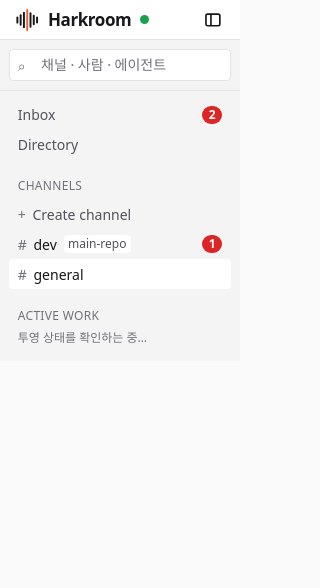
it: Sidebar › 채널 편집 (admin 전용) › 편집 메뉴를 누르면 폼이 열리고 현재 값이 채워진다
This screenshot has width=320, height=588.
Right-click the button "# general" at {"x": 120, "y": 274}, box [9,259,231,289]
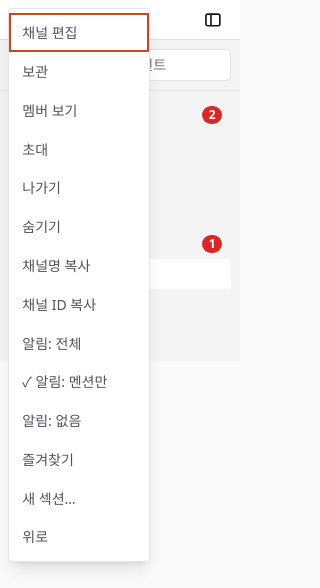
Click the menu item "채널 편집" at {"x": 79, "y": 33}, box [9,13,149,52]
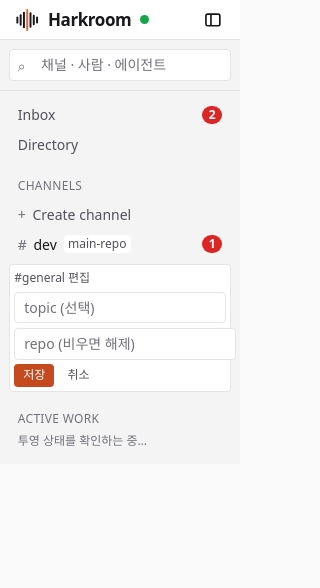
Result: the text "#general 편집" is shown at [14,269,90,286]
Result: the field labelled "topic" is empty at [14,292,226,324]
Result: the field named "Repository" is empty at [14,328,236,360]
